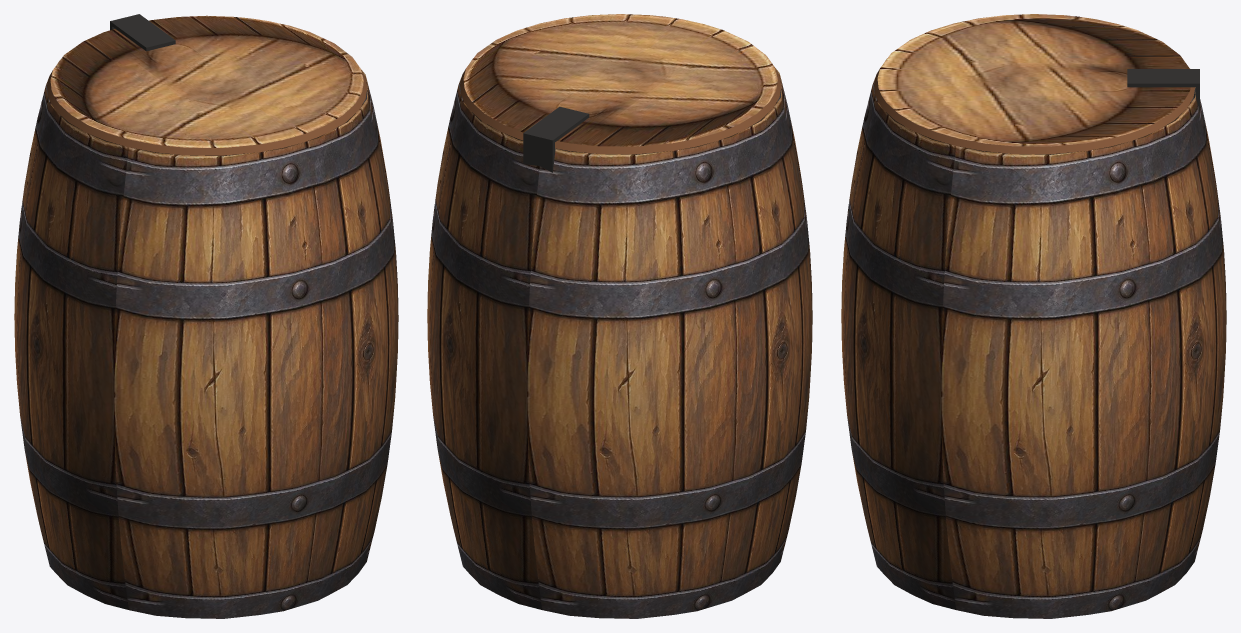
File: barrel-lidded.glb
The picture shows the model from 3 angles, left to right: view 1: azimuth 30°, elevation 25°; view 2: azimuth 150°, elevation 25°; view 3: azimuth 270°, elevation 25°; orthographic projection.
Visible parts, largest first — view 1: barrel-lidded, lid, strap; view 2: barrel-lidded, lid, strap; view 3: barrel-lidded, lid, strap.
Part boxes in pixels (<box>): barrel-lidded: <box>14,60,398,618</box>; lid: <box>47,15,367,155</box>; strap: <box>110,14,175,51</box>; barrel-lidded: <box>427,58,812,618</box>; lid: <box>460,14,781,154</box>; strap: <box>523,106,589,172</box>; barrel-lidded: <box>841,58,1226,618</box>; lid: <box>874,14,1195,154</box>; strap: <box>1127,69,1199,112</box>.
Bounding box in the file's own units: 0.6783 × 0.92 × 0.6771.
Materials: 3 (1 with a texture image).
